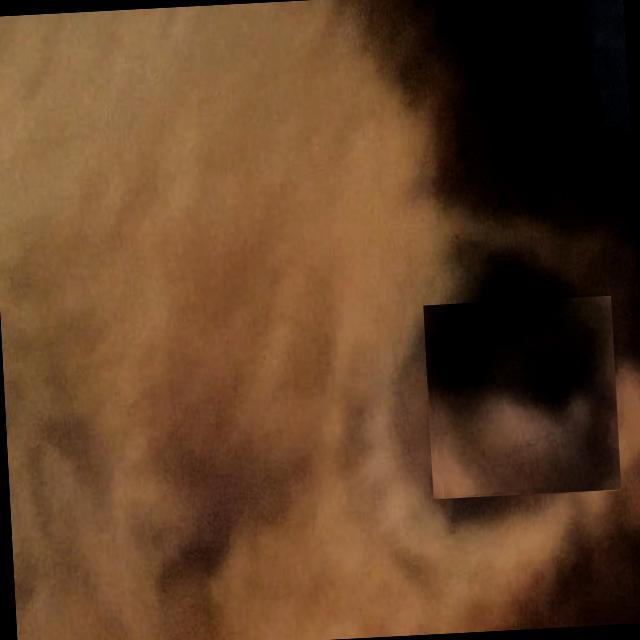fem: (423, 296, 620, 498)
